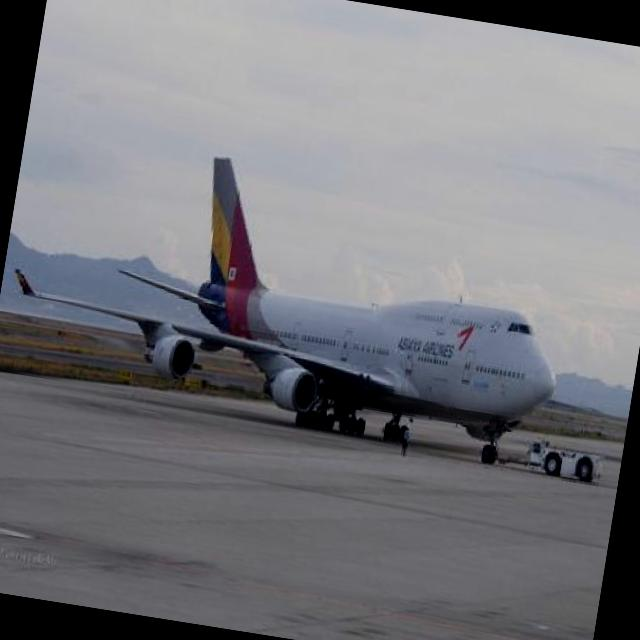Person: (400, 424, 412, 458)
